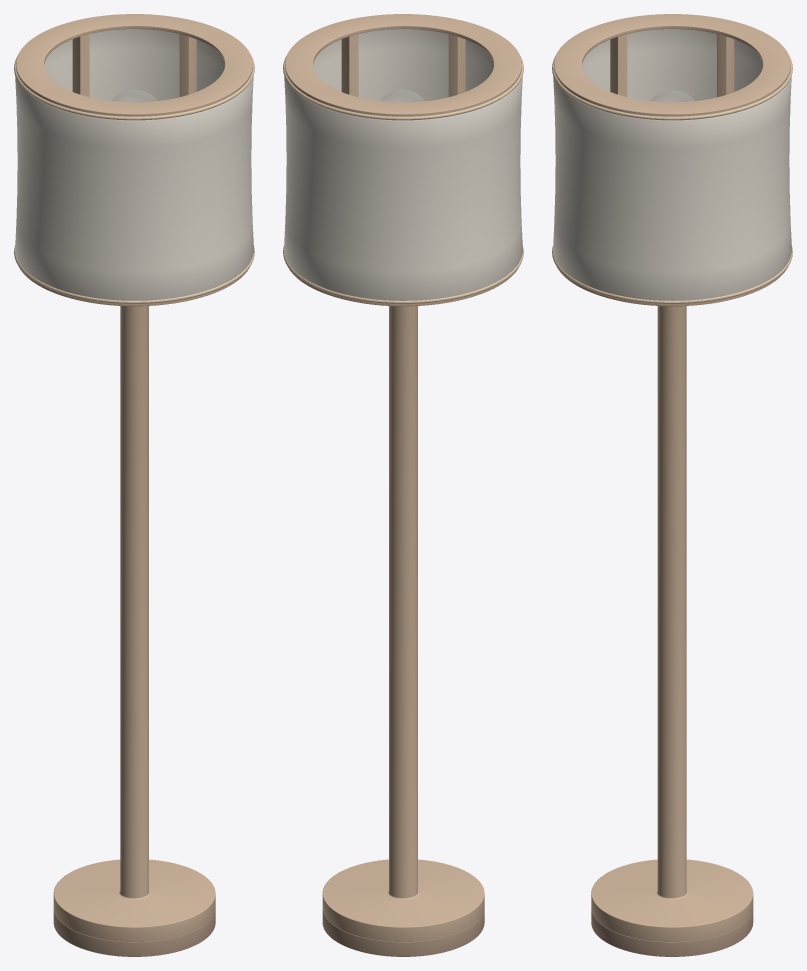
File: luminaria-de-chao-zweigelt.glb
3 renders of one model, left to right at view 1: azimuth 30°, elevation 25°; view 2: azimuth 150°, elevation 25°; view 3: azimuth 270°, elevation 25°, orthographic.
Parts seen in each view (by area): view 1: object 2, object 3, object 5, object 4, object 6; view 2: object 2, object 3, object 5, object 4, object 6; view 3: object 2, object 3, object 5, object 4, object 6.
Boxes of the visible parts, box(x1,y1,x2,y2) form: object 2: box(15, 29, 253, 300); object 3: box(53, 306, 215, 941); object 5: box(16, 14, 252, 306); object 4: box(53, 909, 215, 956); object 6: box(14, 56, 254, 303); object 2: box(284, 29, 522, 300); object 3: box(322, 306, 484, 941); object 5: box(285, 14, 521, 306); object 4: box(322, 909, 484, 956); object 6: box(283, 56, 523, 303); object 2: box(553, 29, 791, 300); object 3: box(591, 306, 753, 941); object 5: box(554, 14, 790, 306); object 4: box(591, 909, 753, 956); object 6: box(552, 56, 792, 303).
Size of the model in its own units: 0.4121 by 1.62 by 0.4121.
